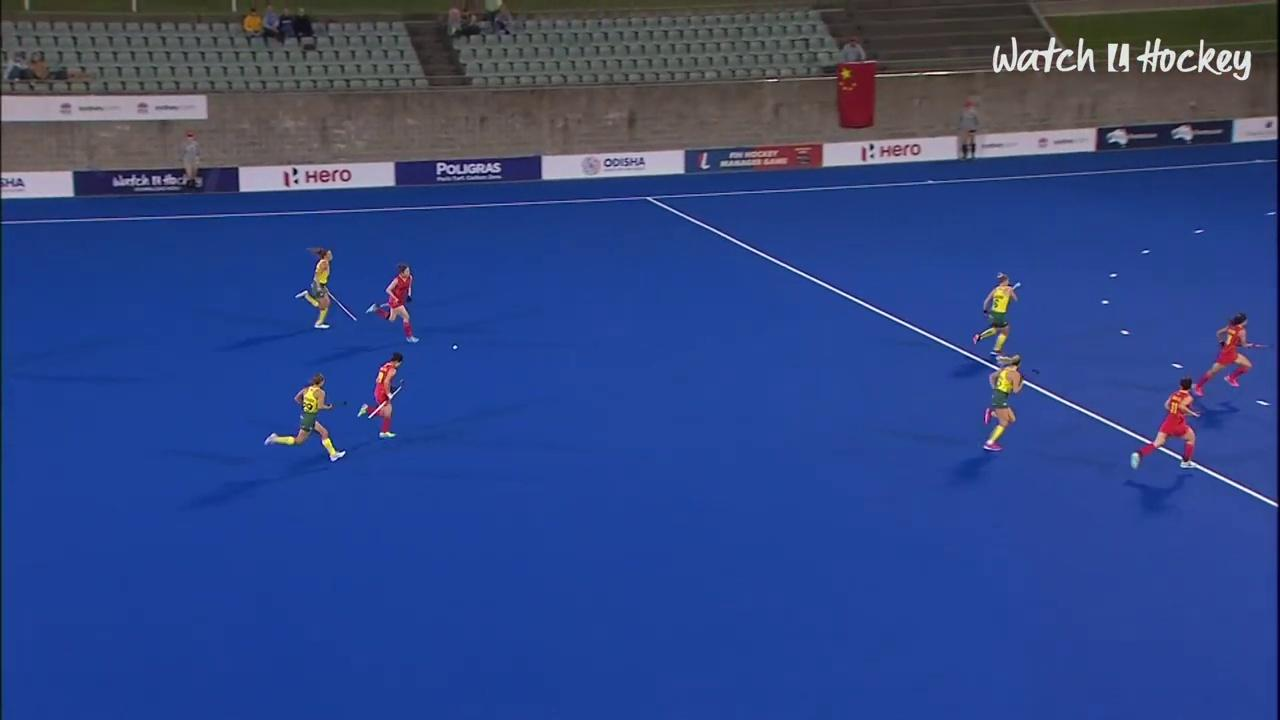ball: (449, 340, 464, 359)
